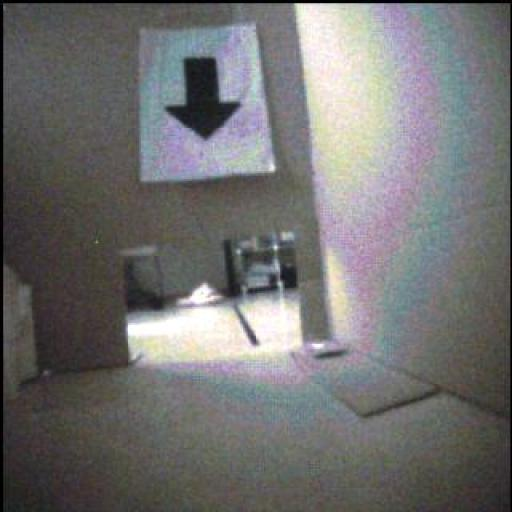arrow: (167, 59, 241, 140)
